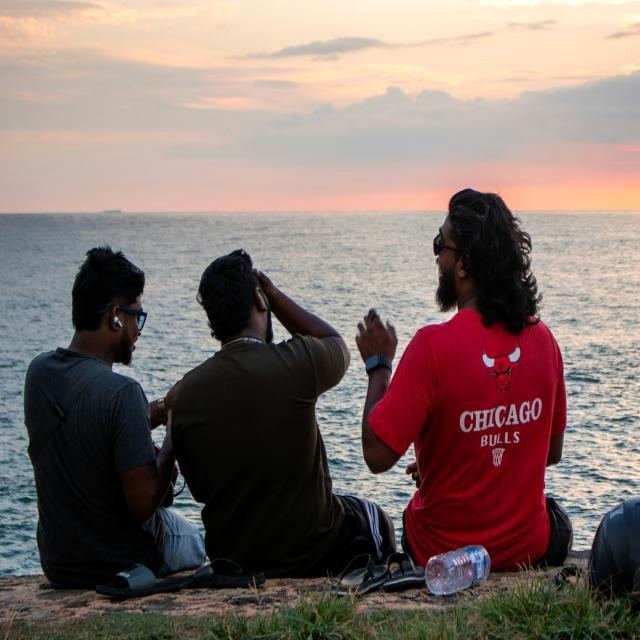no_head_wear: (446, 189, 530, 254), (73, 246, 145, 295), (201, 249, 253, 286)
person: (362, 189, 572, 570), (172, 250, 352, 577), (24, 247, 171, 589)
